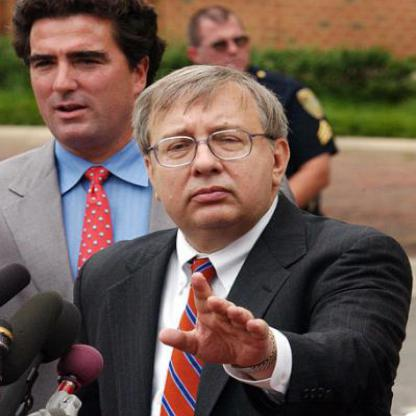face: (145, 66, 277, 231), (22, 1, 136, 143), (198, 11, 252, 80)
